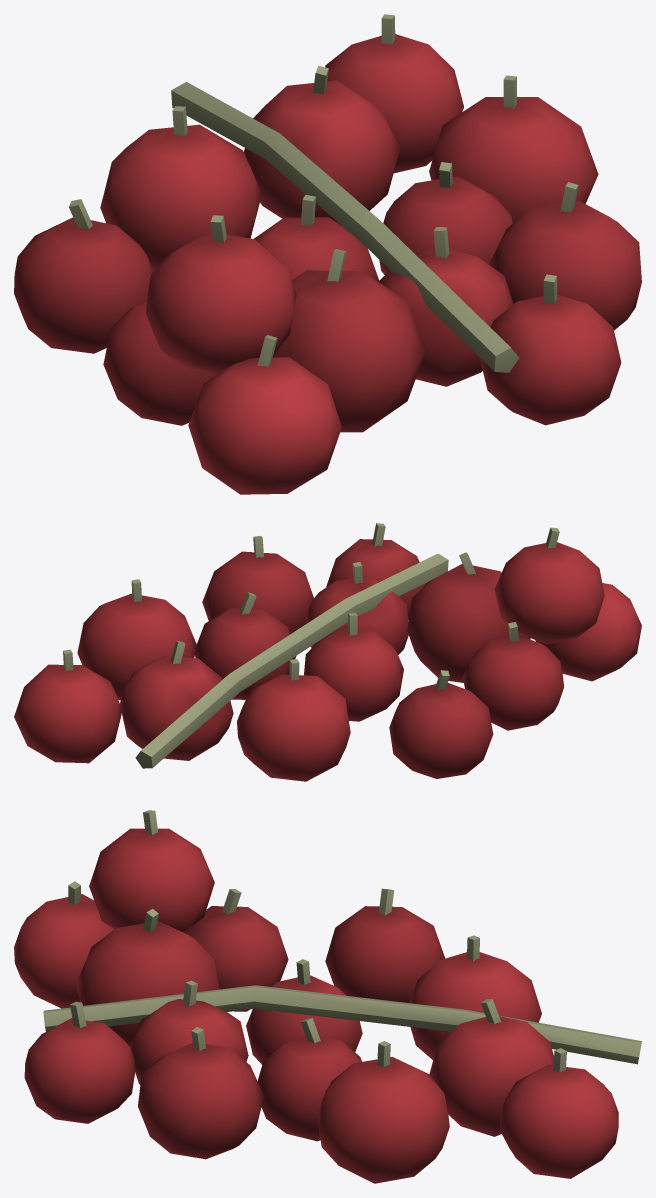
File: red-berries.glb
3 views of the same model, one above another, from view 1: azimuth 30°, elevation 25°; view 2: azimuth 150°, elevation 25°; view 3: azimuth 270°, elevation 25° (orthographic). The views are drawn at different scales.
Parts seen in each view (by area): view 1: Body_lod0; view 2: Body_lod0; view 3: Body_lod0.
Part boxes in pixels (left/top/right/bottom): Body_lod0: left=14, top=14, right=641, bottom=494; Body_lod0: left=14, top=523, right=641, bottom=781; Body_lod0: left=14, top=810, right=641, bottom=1183.
Size of what is drawn, in the model's own units: 0.0767 by 0.0307 by 0.0897.
